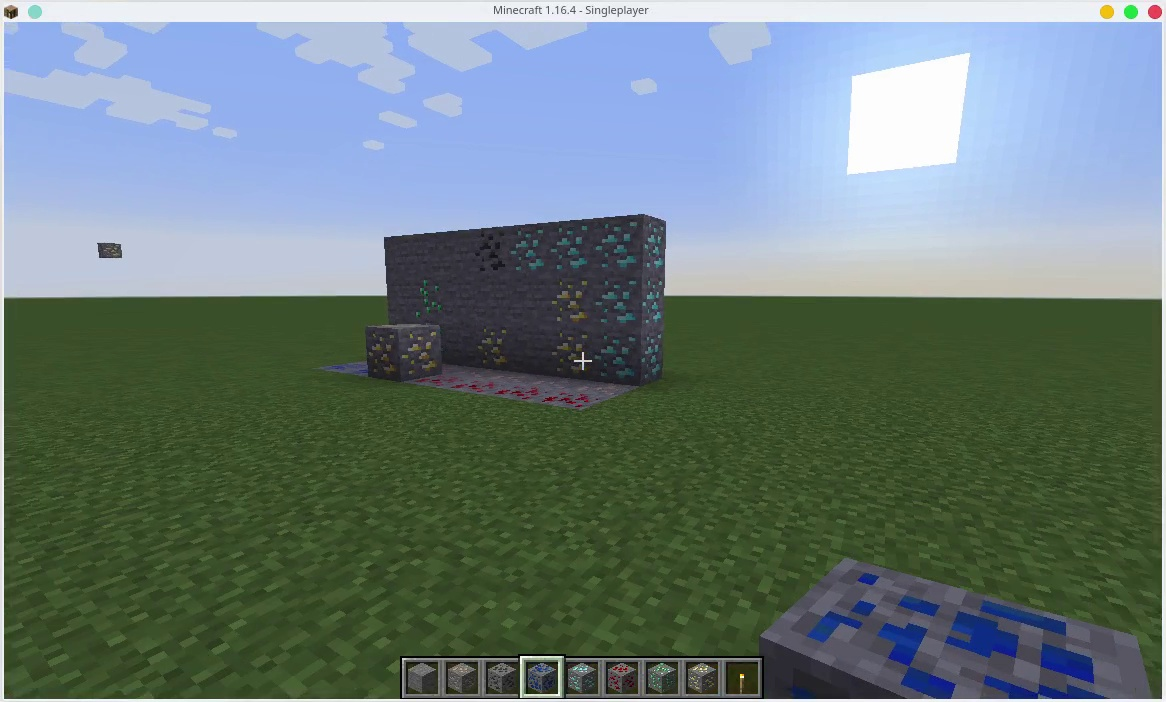gold: (366, 327, 451, 377), (551, 276, 592, 328), (550, 331, 587, 381), (473, 331, 507, 367), (689, 663, 717, 692)
